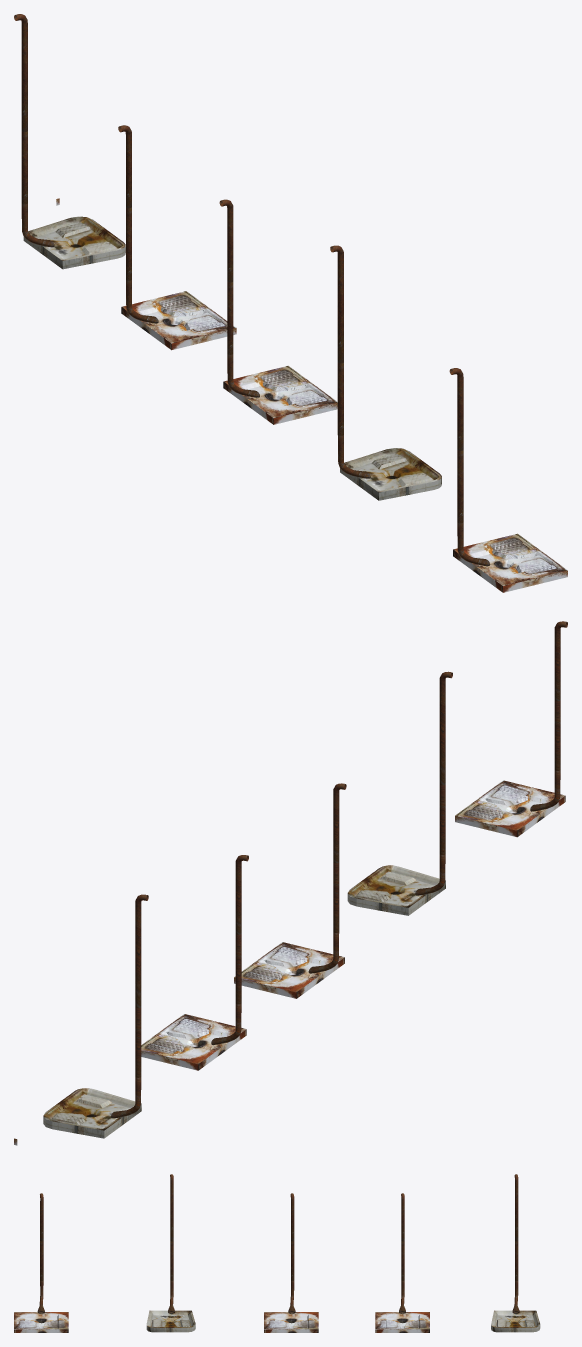
File: SM_Toilets_00_Chiotees_0.fbx
3 renders of one model, top to bottom at view 1: azimuth 30°, elevation 25°; view 2: azimuth 150°, elevation 25°; view 3: azimuth 270°, elevation 25°, orthographic. The views are drawn at different scales.
Parts seen in each view (by area): view 1: SM_Toilets_00_Chiotees_0; view 2: SM_Toilets_00_Chiotees_0; view 3: SM_Toilets_00_Chiotees_0.
Boxes of the visible parts, x1,y1,x2,y2 form: SM_Toilets_00_Chiotees_0: (14,14,567,592); SM_Toilets_00_Chiotees_0: (14,621,567,1145); SM_Toilets_00_Chiotees_0: (14,1174,540,1332).
Bounding box in the file's own units: 253 × 666 × 2417.
